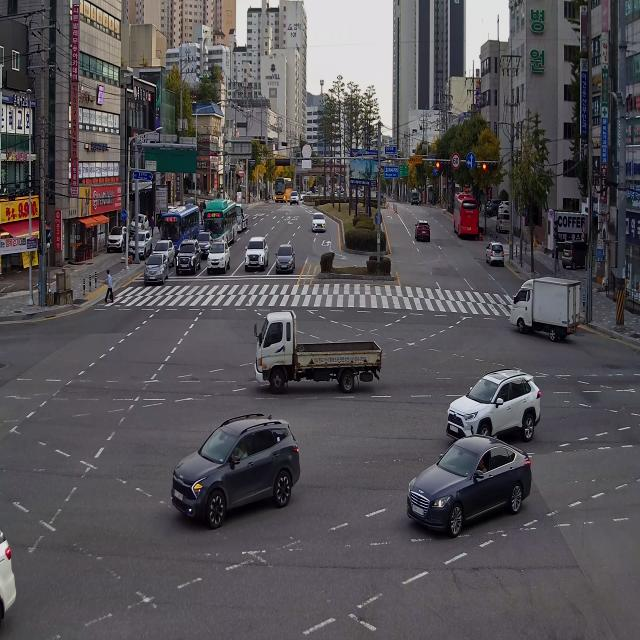Bus: (157, 204, 201, 256), (203, 194, 239, 248), (449, 191, 481, 243), (272, 173, 292, 203)
Car: (159, 404, 307, 531), (394, 416, 540, 543), (439, 361, 550, 446), (0, 502, 16, 640), (243, 220, 275, 282), (171, 233, 206, 289), (561, 232, 591, 278), (272, 242, 301, 280), (480, 239, 510, 275), (140, 251, 169, 288), (409, 215, 437, 252), (205, 236, 229, 278), (104, 224, 129, 256), (128, 228, 153, 260), (129, 210, 149, 234), (495, 210, 512, 237), (309, 210, 328, 234), (484, 196, 502, 213), (288, 189, 302, 209), (497, 197, 511, 216)
Truck: (246, 296, 396, 402), (502, 278, 586, 346), (235, 199, 251, 236), (410, 189, 420, 208)
